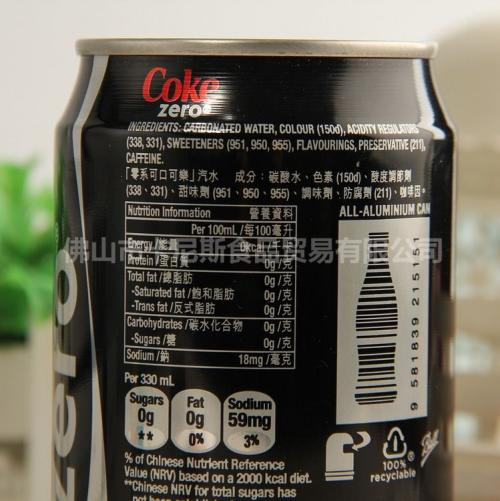coke_zero: (47, 35, 463, 500)
